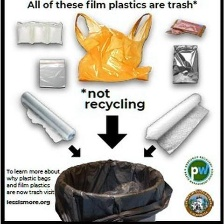plastic_bag: (52, 156, 173, 222), (71, 11, 155, 85)
snack: (169, 39, 200, 87)
